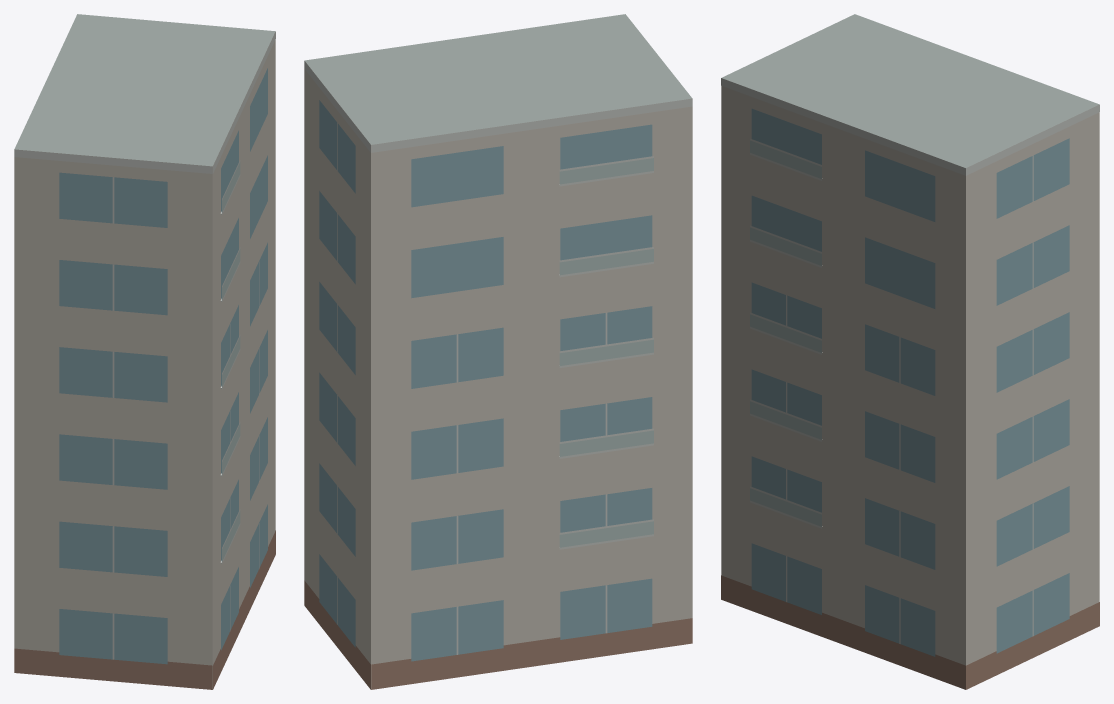
The model's file is survey-upis-32568009.glb.
The picture shows the model from 3 angles, left to right: view 1: azimuth 30°, elevation 25°; view 2: azimuth 150°, elevation 25°; view 3: azimuth 270°, elevation 25°; orthographic projection. The views are drawn at different scales.
Parts seen in each view (by area): view 1: survey-upis-32568009.tmp; view 2: survey-upis-32568009.tmp; view 3: survey-upis-32568009.tmp.
Boxes of the visible parts, x1=… form: survey-upis-32568009.tmp: x1=14, y1=14, x2=275, y2=689; survey-upis-32568009.tmp: x1=304, y1=14, x2=692, y2=689; survey-upis-32568009.tmp: x1=721, y1=14, x2=1099, y2=689.
Bounding box in the file's own units: 10.57 × 16.65 × 10.96.
